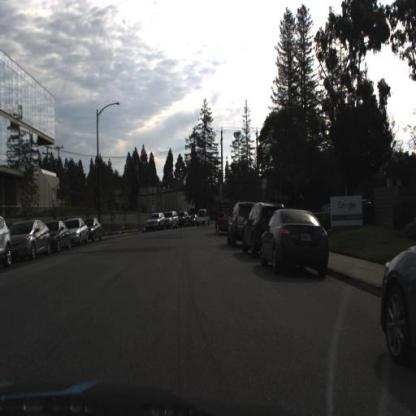car: (379, 241, 416, 384), (260, 207, 330, 279), (7, 220, 52, 269), (242, 201, 267, 255), (224, 201, 244, 248), (47, 216, 71, 253), (52, 218, 73, 259), (2, 208, 14, 274), (66, 216, 88, 250), (71, 216, 91, 248), (84, 216, 103, 244), (90, 213, 106, 245), (145, 212, 163, 234), (165, 210, 181, 232)
